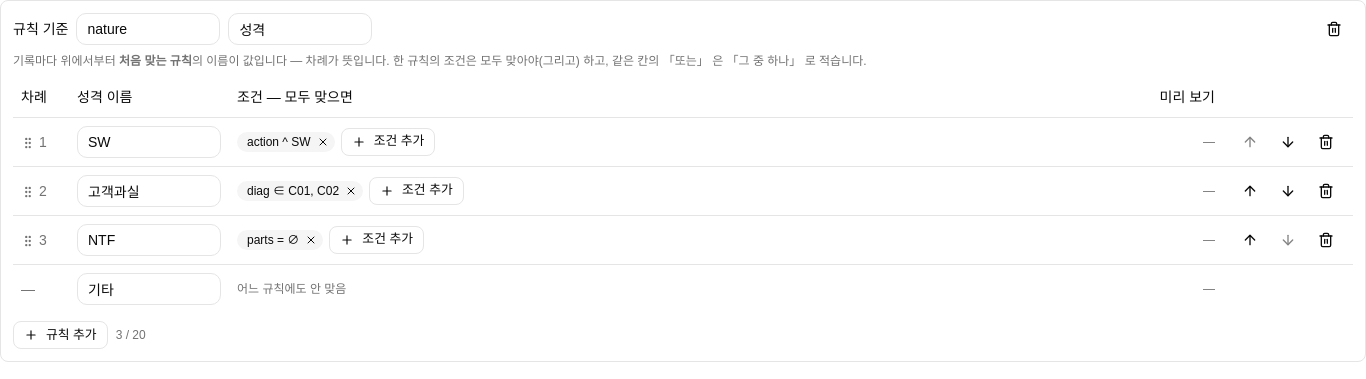
Test case: 규칙 기준 편집기 › 위로 · 아래로 단추가 차례를 바꾼다 — 끝에서는 그 방향이 잠긴다
The width and height of the screenshot is (1366, 379).
expect the button named "규칙 1 위로" is disabled: met, box [1231, 128, 1269, 156]
expect the button named "규칙 3 아래로" is disabled: met, box [1269, 226, 1307, 254]
Click the button named "규칙 3 위로": (1250, 240) [1231, 226, 1269, 254]
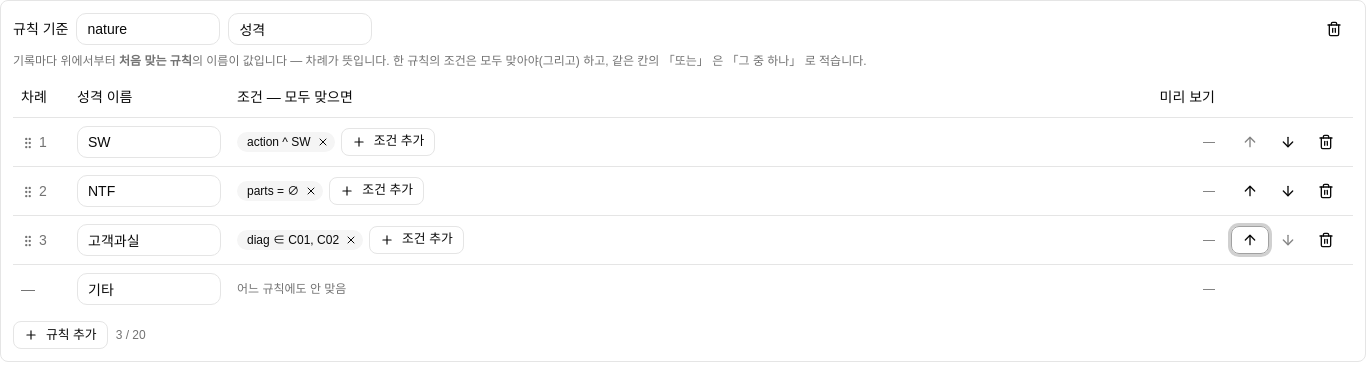
Click the button named "규칙 1 아래로": (1288, 142) [1269, 128, 1307, 156]
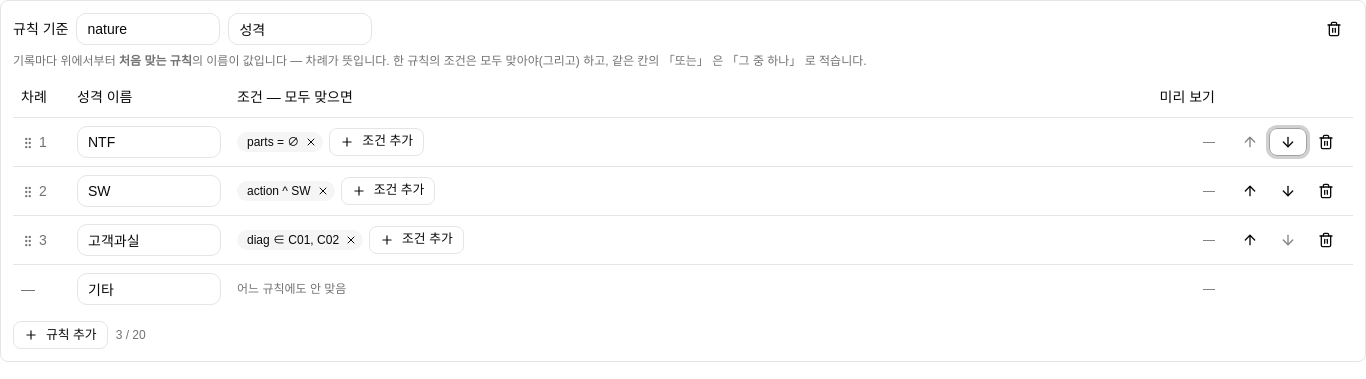
expect the field named "규칙 1 이름" holds "NTF": met, box [77, 126, 221, 158]
